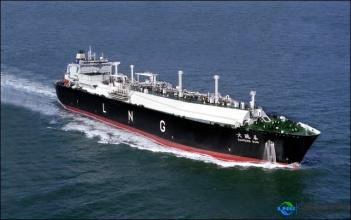Cargoship: (53, 43, 321, 163)
